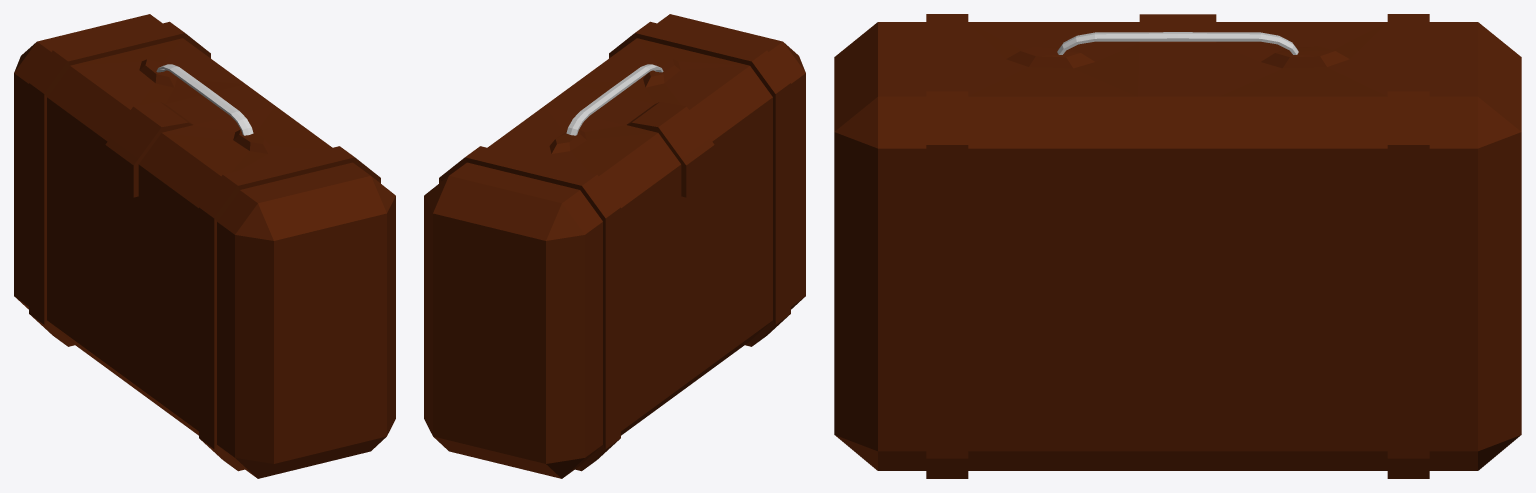
File: suitcase.fbx
3 views of the same model, side by side, from view 1: azimuth 30°, elevation 25°; view 2: azimuth 150°, elevation 25°; view 3: azimuth 270°, elevation 25° (orthographic). The views are drawn at different scales.
Parts seen in each view (by area): view 1: Cube; view 2: Cube; view 3: Cube.
Boxes of the visible parts, x1,y1,x2,y2 form: Cube: (14,14,395,478); Cube: (424,14,805,478); Cube: (834,14,1521,478).
Bounding box in the file's own units: 128 × 218 × 333.
